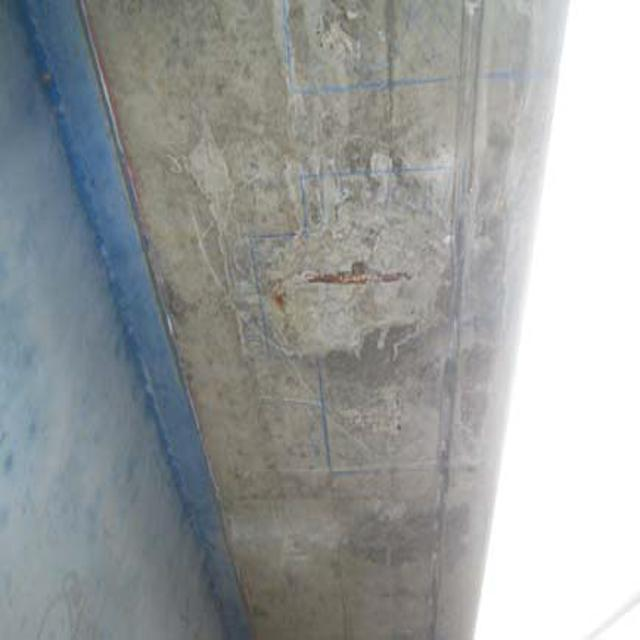spalling: (233, 142, 461, 354)
